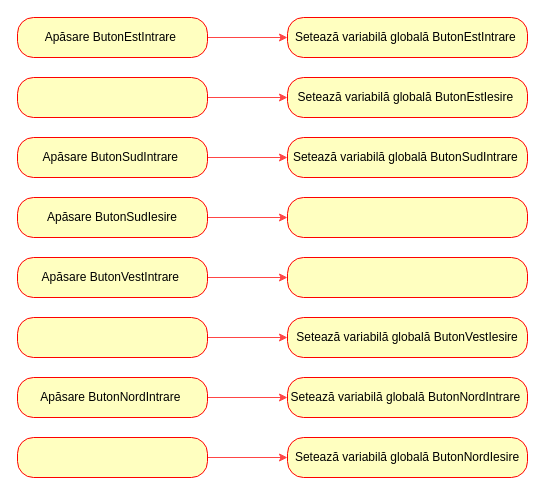
Some shapes in this 545 by 495 pixel diagram are drawn without their labels. Here are the shapes that lost their labels. From the top down, the box of each, then its label:
(16, 76, 208, 118): Apăsare ButonEstIesire
(286, 196, 528, 238): Setează variabilă globală ButonSudIesire
(286, 256, 528, 298): Setează variabilă globală ButonVestIntrare
(16, 316, 208, 358): Apăsare ButonVestIesire
(16, 436, 208, 478): Apăsare ButonNordIesire
